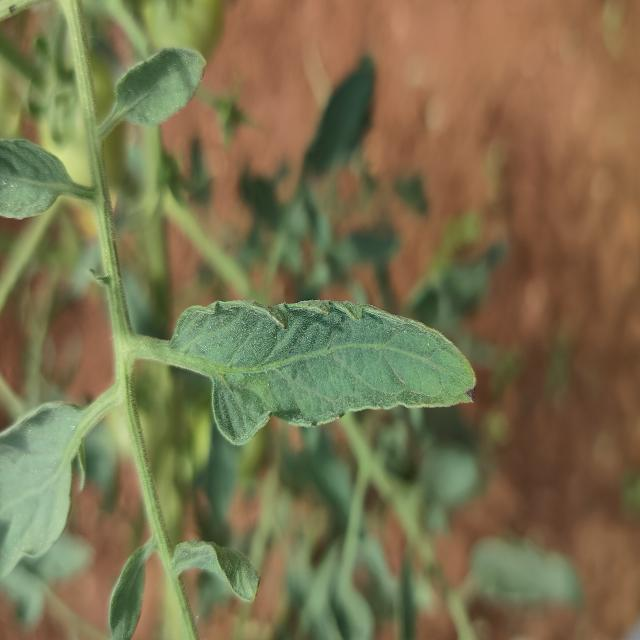tomato_healthy: (171, 296, 474, 446)
